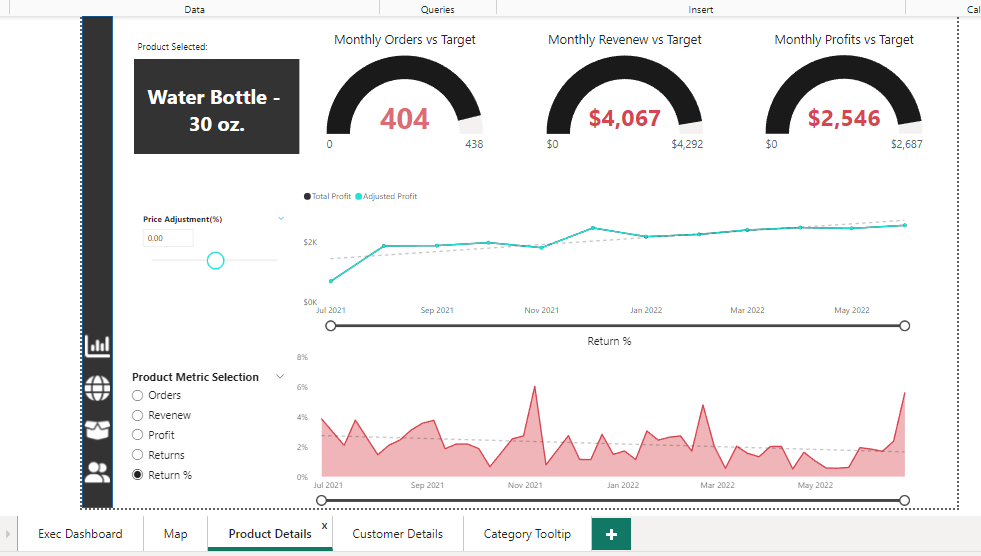

The page's visual inventory and layout, read from the dashboard file:
{"tool":"powerbi","page":{"name":"Product Details","canvas":[1280,720],"ordinal":2},"visuals":[{"type":"shape","box":[0,0,45,720],"z":0},{"type":"gauge","title":"Monthly Orders vs Target","fields":{"Y":["Measure Table.Total Orders"],"MaxValue":["Measure Table.Order Target"]},"box":[353,20.5,239.4,195.5],"z":1000},{"type":"gauge","title":"Monthly Profits vs Target","fields":{"Y":["Measure Table.Total Profit"],"MaxValue":["Measure Table.Profit Target"]},"box":[995.1,20.5,240,194.6],"z":2000},{"type":"gauge","title":"Monthly Revenew vs Target","fields":{"Y":["Measure Table.Total Revenew"],"MaxValue":["Measure Table.Revenew Target"]},"box":[674.1,20.5,239.4,195.5],"z":3000},{"type":"lineChart","title":"Profit Trending","fields":{"Category":["Calendar Lookup.Date Hierarchy.Start of Year","Calendar Lookup.Date Hierarchy.Start of Month","Calendar Lookup.Date Hierarchy.Start of Week","Calendar Lookup.Date Hierarchy.Date"],"Y":["Measure Table.Total Profit","Measure Table.Adjusted Profit"]},"box":[319,244.4,916.1,219.5],"z":4000},{"type":"areaChart","fields":{"Y":["Measure Table.Return Rate"],"Category":["Calendar Lookup.Date Hierarchy.Start of Year","Calendar Lookup.Date Hierarchy.Start of Month","Calendar Lookup.Date Hierarchy.Start of Week","Calendar Lookup.Date Hierarchy.Date"]},"box":[308.8,463.9,926.3,256.1],"z":5000},{"type":"card","fields":{"Values":["Min(Product Lookup.ProductName)"]},"box":[75.8,63.6,242.4,139.4],"z":6000},{"type":"textbox","box":[76.1,30.7,204.9,33.7],"z":7000},{"type":"actionButton","box":[0,453,45.5,59.1],"z":8000},{"type":"actionButton","box":[0,576.3,45.5,59.1],"z":9000},{"type":"actionButton","box":[0,514.6,45.5,59.1],"z":10000},{"type":"actionButton","box":[0,637.9,45.5,59.1],"z":11000},{"type":"slicer","fields":{"Values":["Price Adjustment(%).Price Adjustment(%)"]},"box":[76.1,283.9,232.7,139],"z":12000},{"type":"slicer","fields":{"Values":["Product Metric Selection.Product Metric Selection"]},"box":[60,512.2,248.8,181.5],"z":13000}]}

Visuals, with their boxes on the page's 1280x720 design canvas (x1, y1, x2, y2). These are canvas units, not pixel positions in the 981x556 screenshot, which may show the page scaled, cropped or inside an application window:
shape: {"left": 0, "top": 0, "right": 45, "bottom": 720}
"Monthly Orders vs Target" gauge: {"left": 353, "top": 20, "right": 592, "bottom": 216}
"Monthly Profits vs Target" gauge: {"left": 995, "top": 20, "right": 1235, "bottom": 215}
"Monthly Revenew vs Target" gauge: {"left": 674, "top": 20, "right": 914, "bottom": 216}
"Profit Trending" lineChart: {"left": 319, "top": 244, "right": 1235, "bottom": 464}
areaChart - Measure Table.Return Rate x Calendar Lookup.Date Hierarchy.Start of Year: {"left": 309, "top": 464, "right": 1235, "bottom": 720}
card - Min(Product Lookup.ProductName): {"left": 76, "top": 64, "right": 318, "bottom": 203}
textbox: {"left": 76, "top": 31, "right": 281, "bottom": 64}
actionButton: {"left": 0, "top": 453, "right": 46, "bottom": 512}
actionButton: {"left": 0, "top": 576, "right": 46, "bottom": 635}
actionButton: {"left": 0, "top": 515, "right": 46, "bottom": 574}
actionButton: {"left": 0, "top": 638, "right": 46, "bottom": 697}
slicer - Price Adjustment(%).Price Adjustment(%): {"left": 76, "top": 284, "right": 309, "bottom": 423}
slicer - Product Metric Selection.Product Metric Selection: {"left": 60, "top": 512, "right": 309, "bottom": 694}
